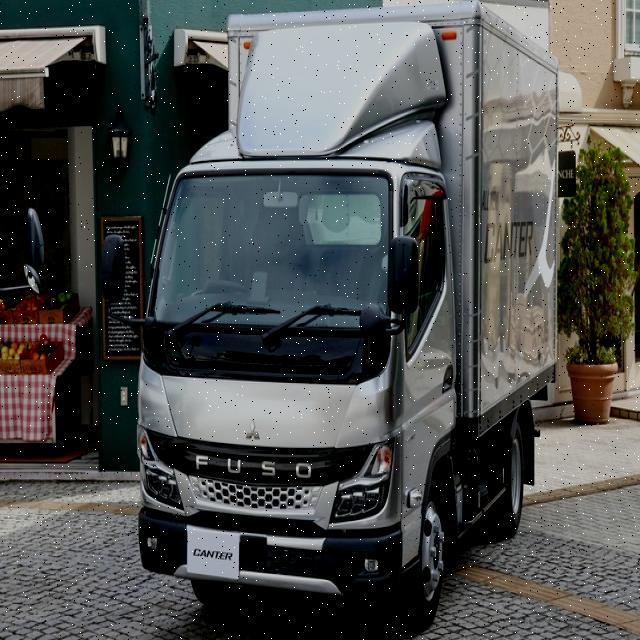truck: (102, 9, 556, 632)
